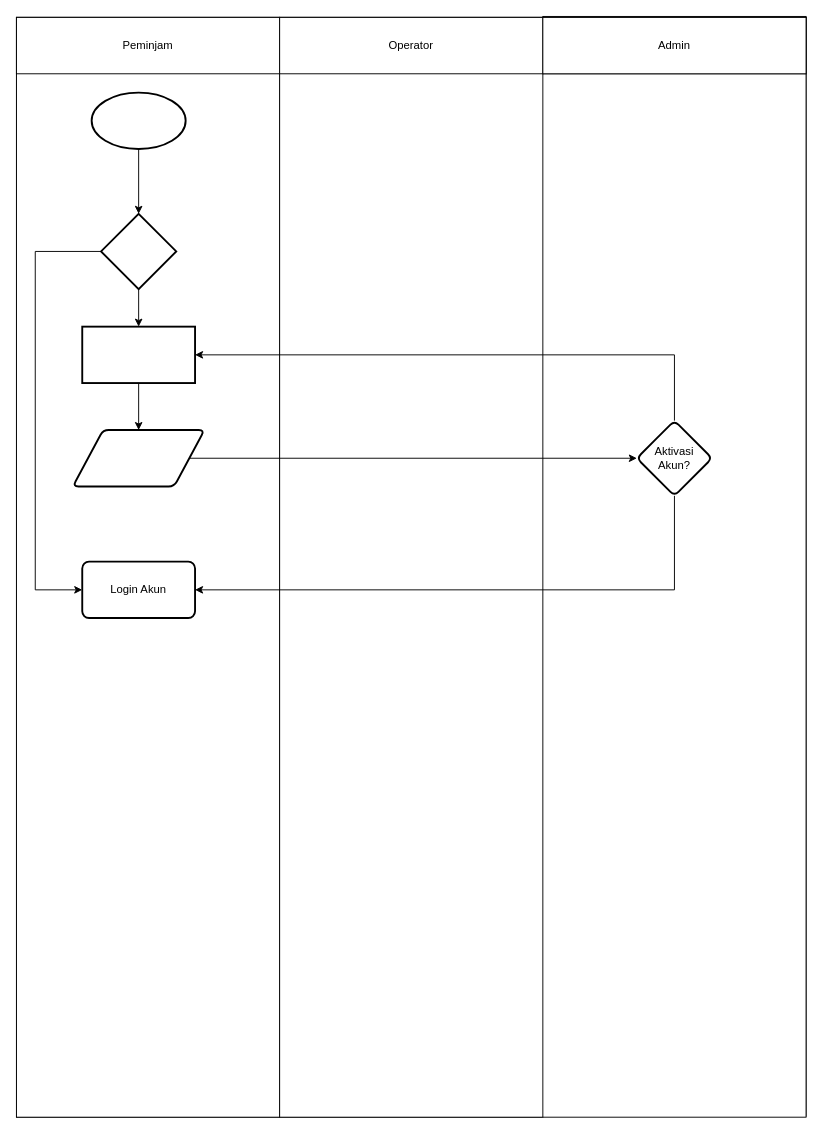
Some shapes in this 823 by 1134 pixel diagram are drawn without their labels. The shapes that lost their labels are listed below. From the top down, each one's centre as x and y in pixels, then its label:
At (x=138, y=251): "Memiliki Akun?".
At (x=138, y=354): "Pendaftaran".
At (x=138, y=458): "Pengisian Data oleh peminjam".
